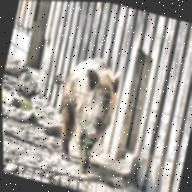boar: (34, 46, 129, 179)
